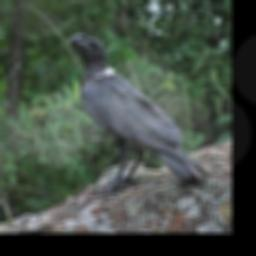Crow: (65, 32, 211, 197)
